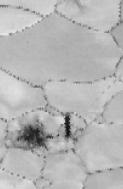good_void: (16, 120, 48, 153), (64, 114, 71, 138), (46, 134, 54, 140), (57, 134, 60, 137)
